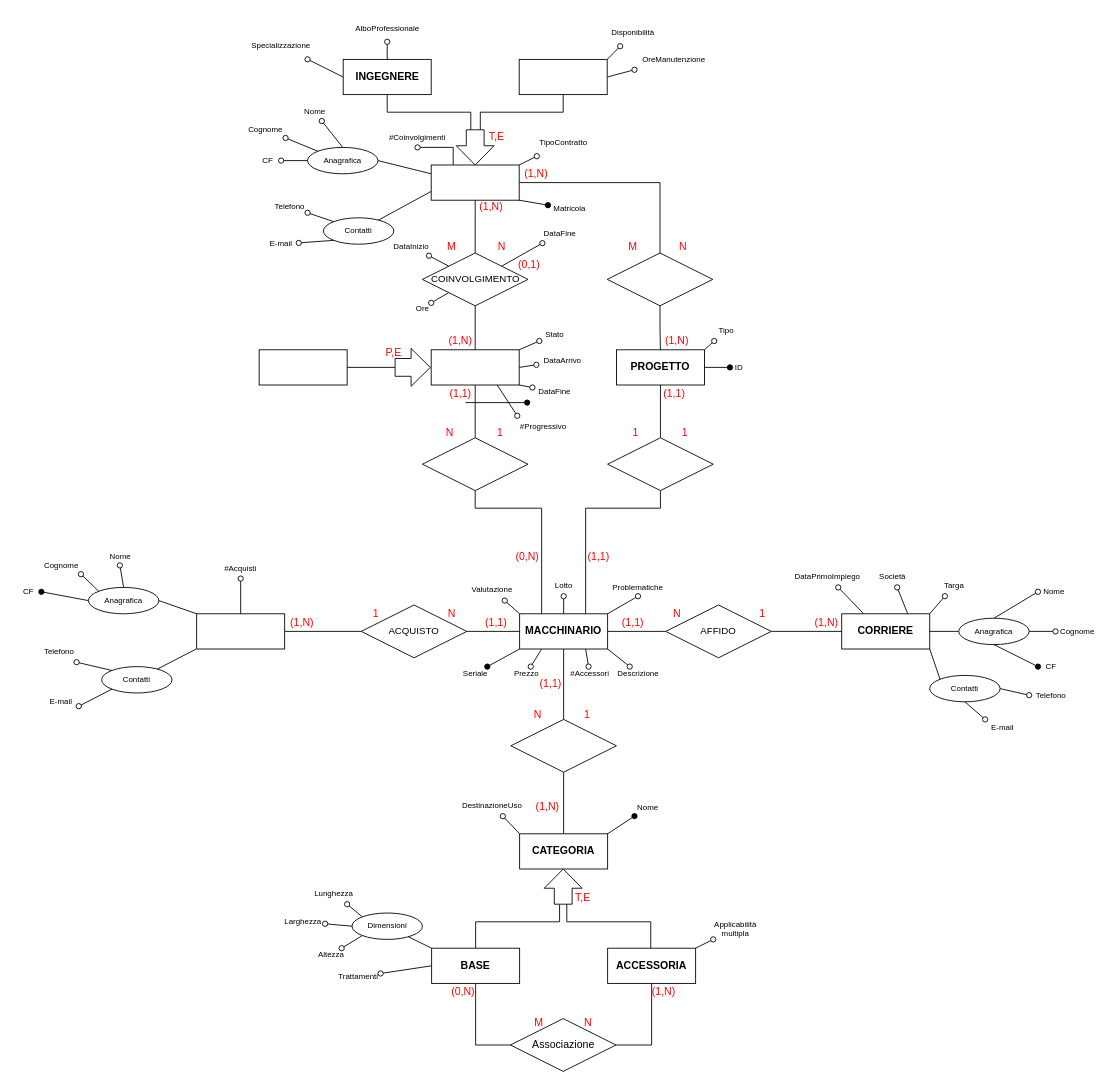
Some shapes in this 1115 by 1087 pixel diagram are drawn without their labels. Each missing label, with the centre of its shape:
"APPARTENENZA" goes at [563,745].
"CLIENTE" goes at [240,631].
"DIPENDENTE" goes at [474,182].
"ESECUZIONE" goes at [475,464].
"INTERVENTO" goes at [474,367].
"OPERAIO" goes at [562,77].
"PARTECIPAZIONE" goes at [659,279].
"REALIZZAZIONE" goes at [660,464].
"SOSTITUZIONE" goes at [302,367].
